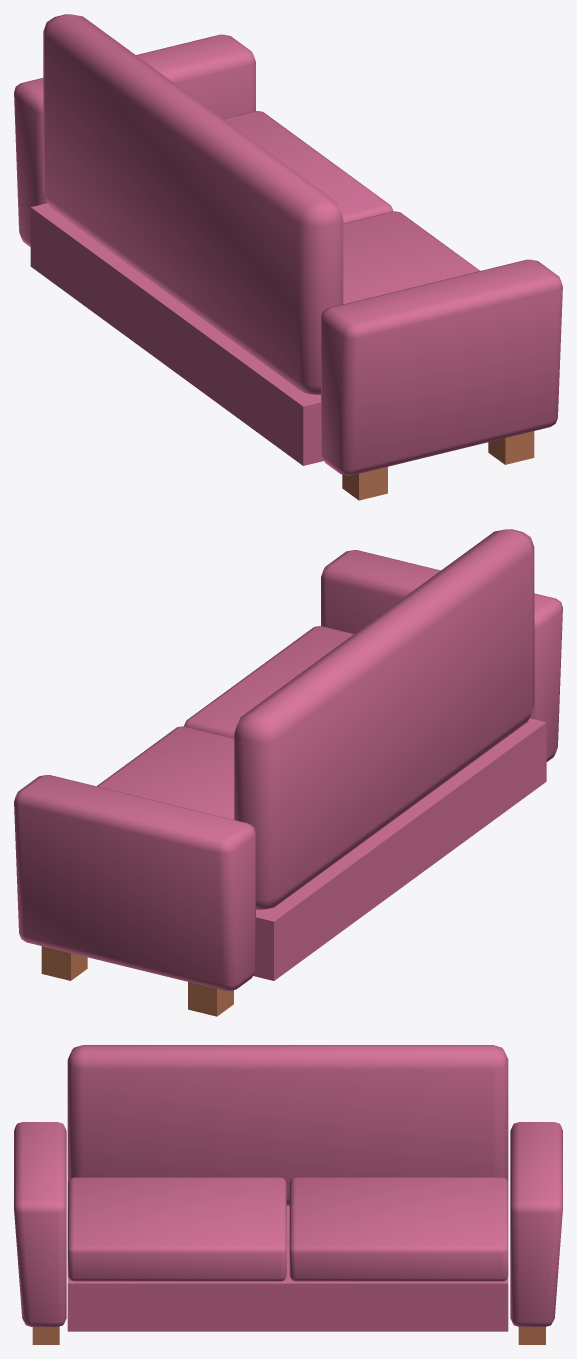
Rendered from sofaLarge.fbx.
3 renders of one model, top to bottom at view 1: azimuth 30°, elevation 25°; view 2: azimuth 150°, elevation 25°; view 3: azimuth 270°, elevation 25°, orthographic. The views are drawn at different scales.
Parts seen in each view (by area): view 1: SofaDoble; view 2: SofaDoble; view 3: SofaDoble.
Part boxes in pixels (x1,y1,x2,y2): SofaDoble: [14, 14, 562, 500]; SofaDoble: [14, 529, 562, 1016]; SofaDoble: [14, 1045, 562, 1344].
Bounding box in the file's own units: 152 × 175 × 387.
